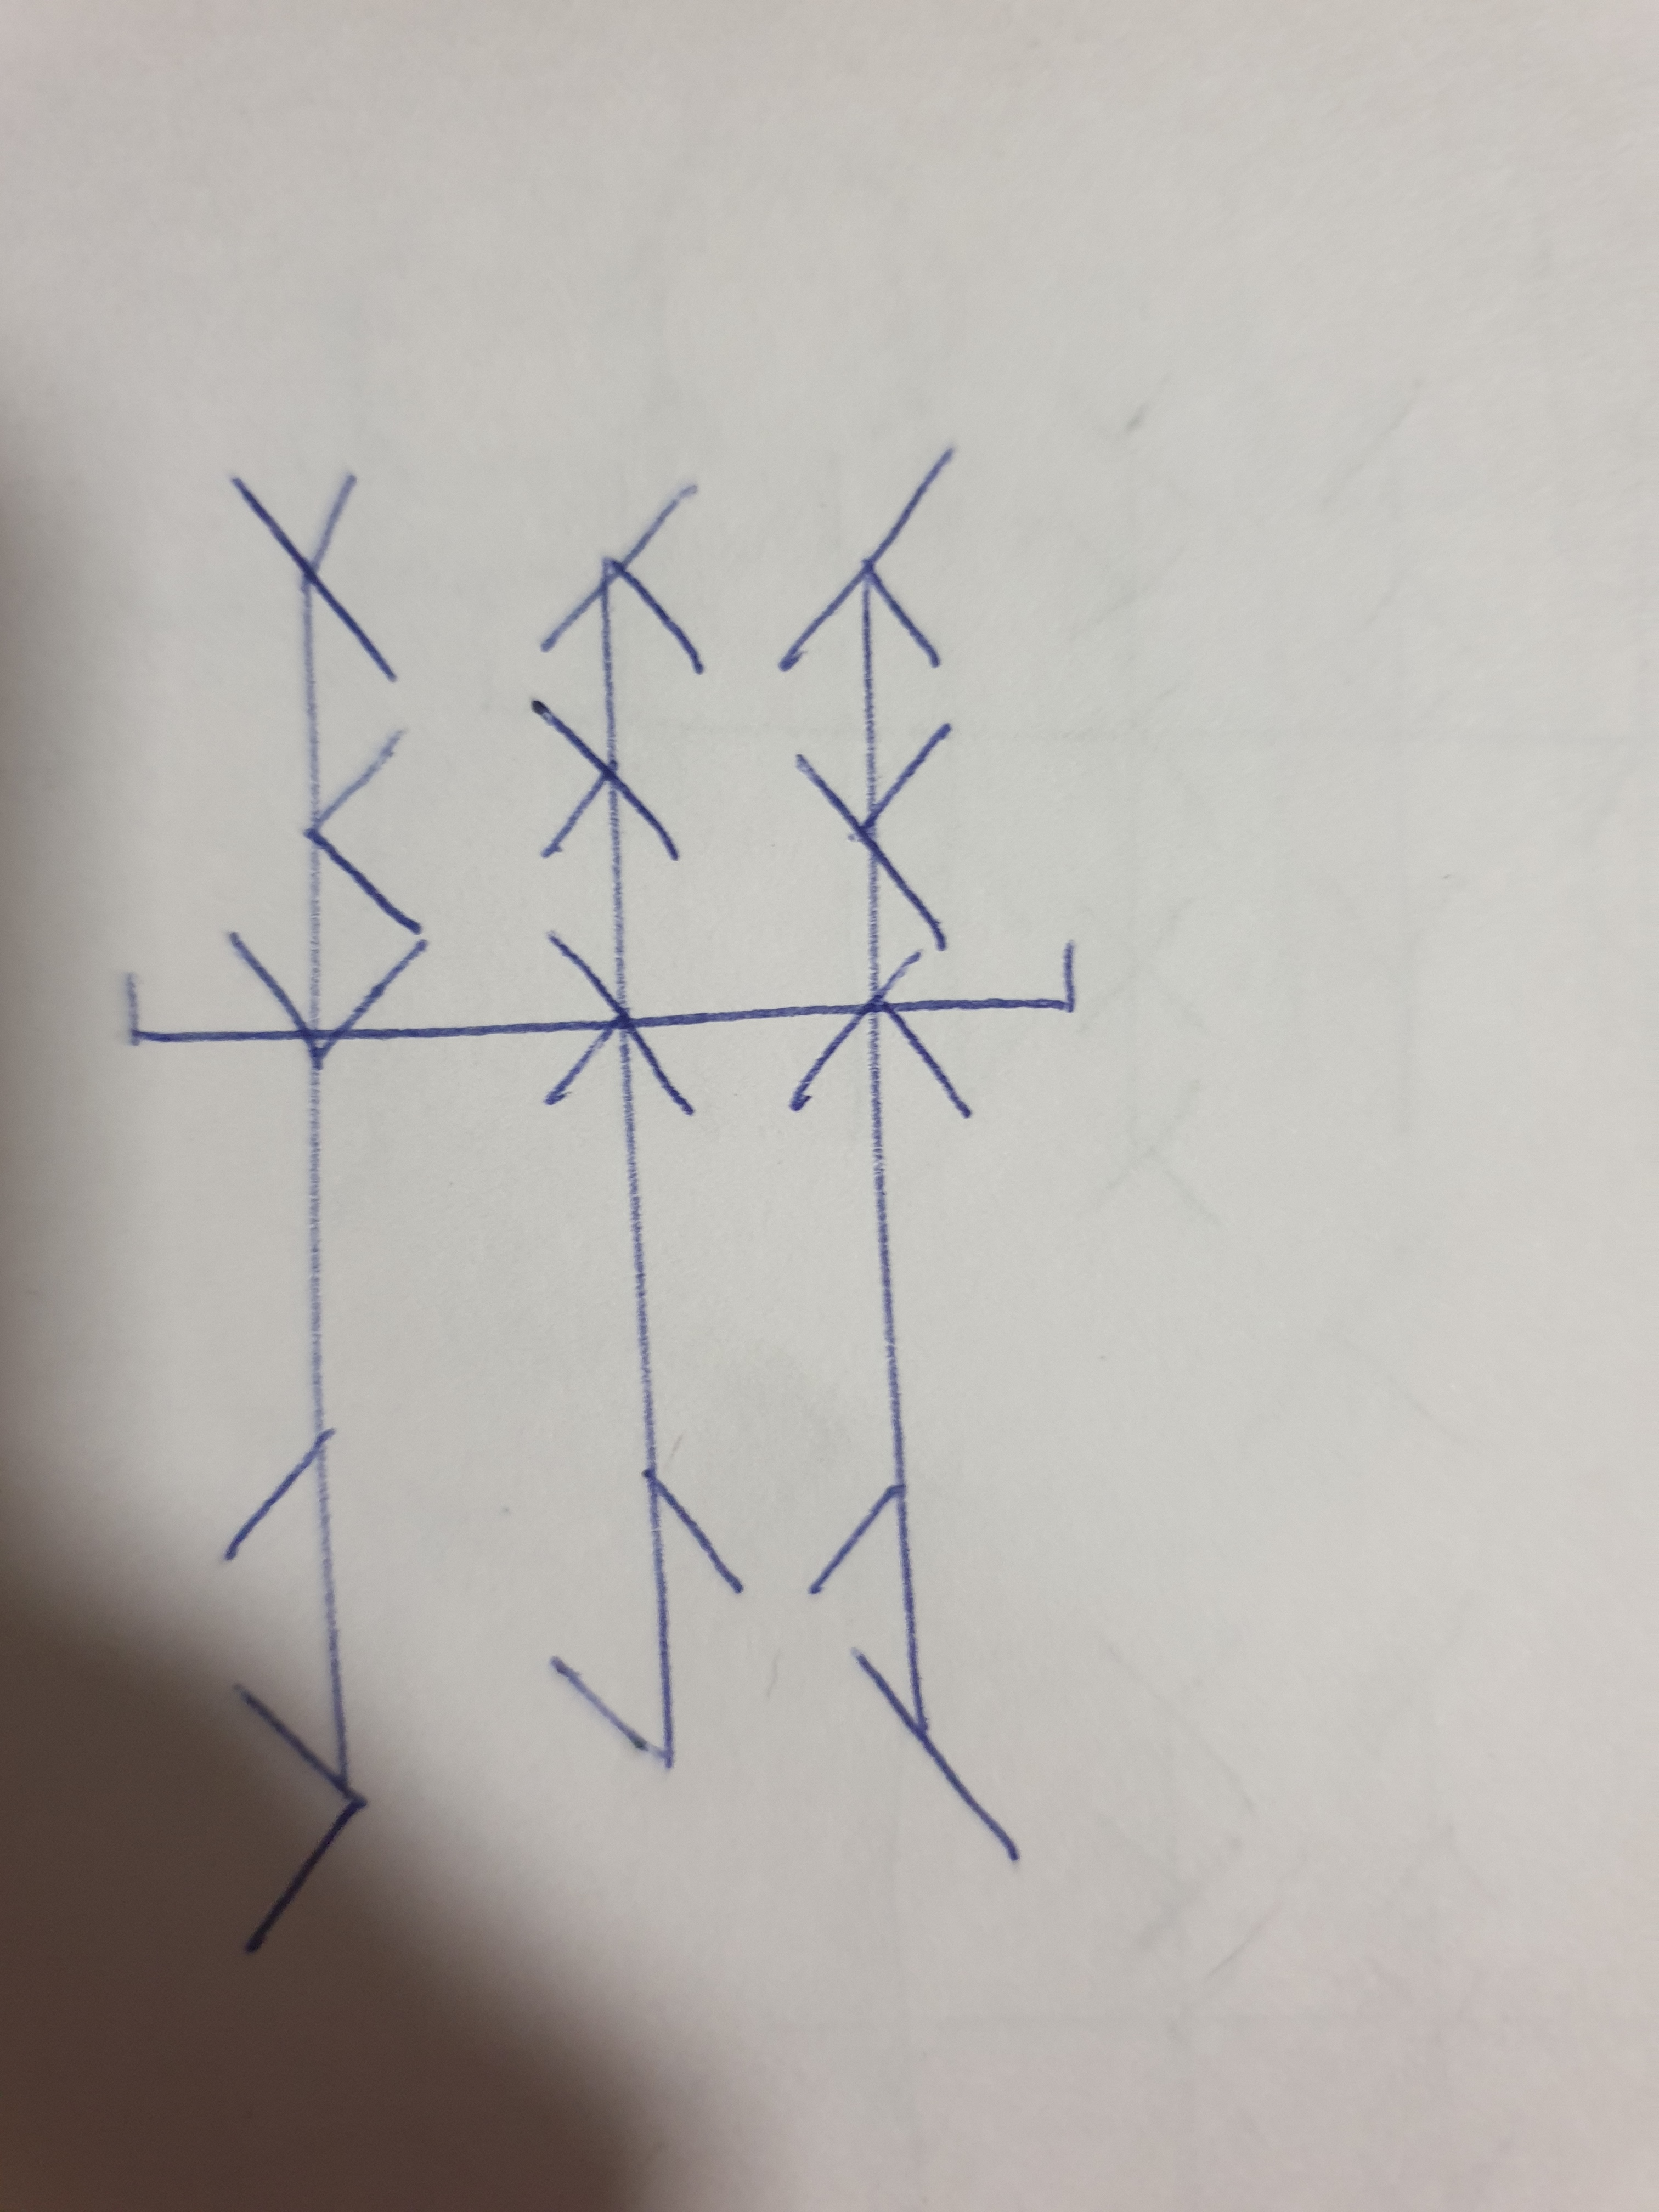Bar: (779, 442, 1021, 1864), (221, 470, 429, 1946), (528, 482, 744, 1771)
Barcode: (122, 444, 1080, 1947)
End: (946, 942, 1077, 1019)
Start: (120, 972, 247, 1049)
